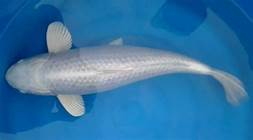white: (5, 19, 250, 117)
